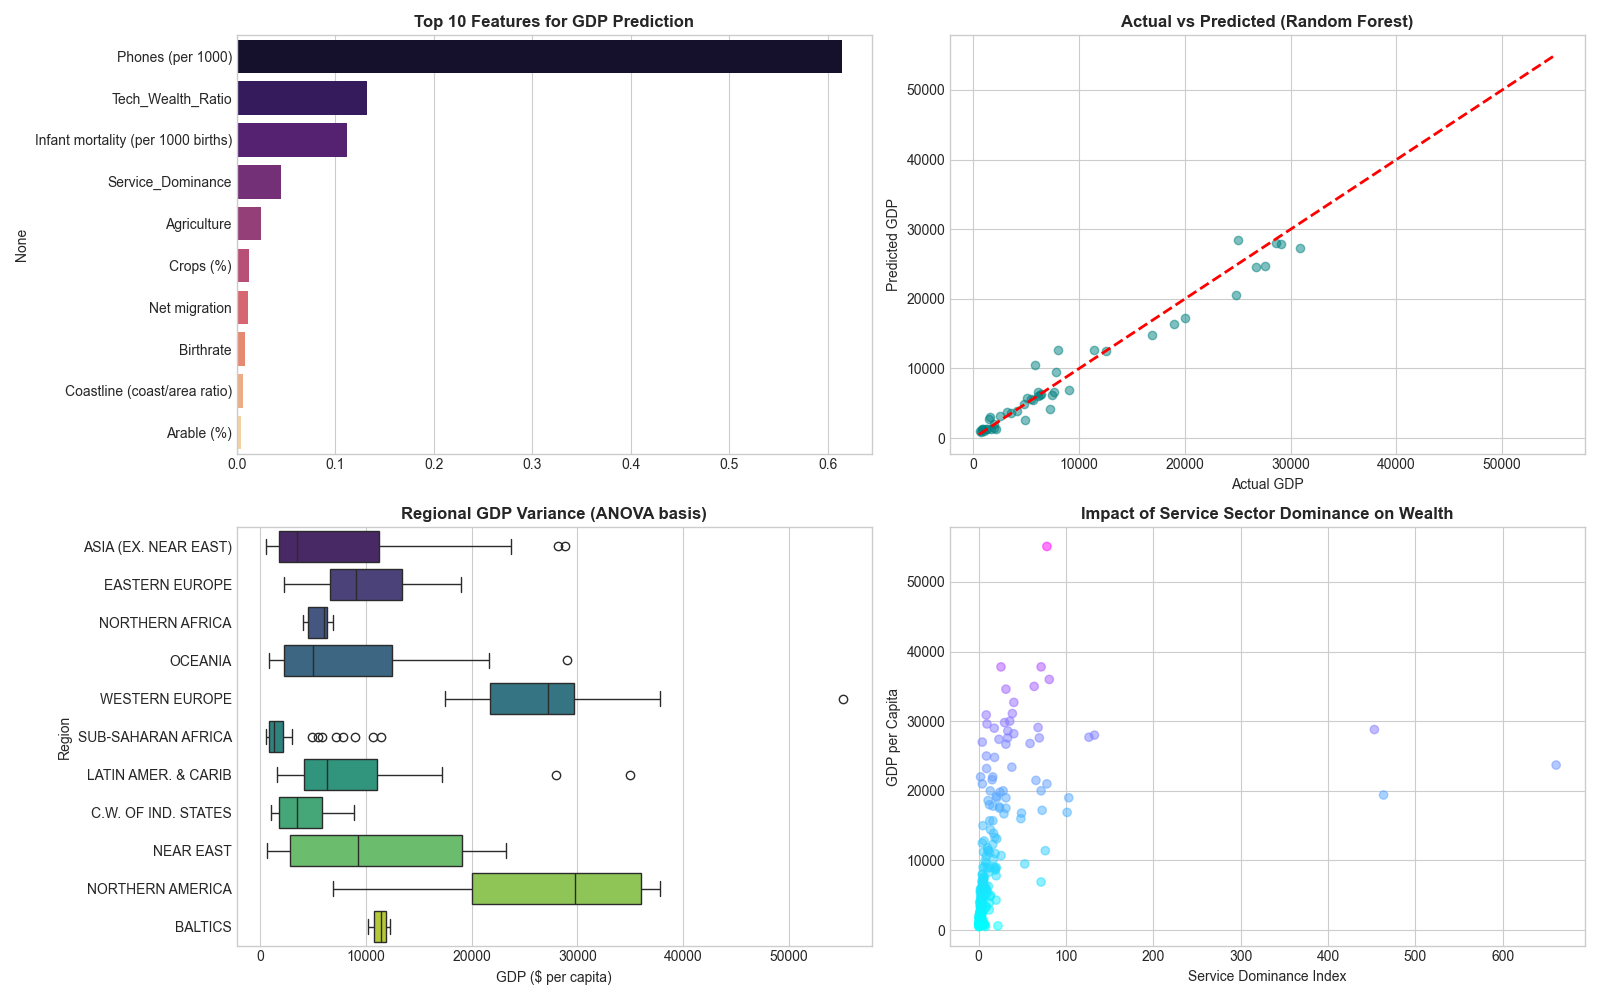

What the dashboard file says about the page in this screenshot:
{"tool":"powerbi","page":{"name":"Page 1","canvas":[1280,720],"ordinal":0},"visuals":[{"type":"pythonVisual","fields":{"Values":["powerbi_data.Country","powerbi_data.Region","powerbi_data.GDP ($ per capita)","Sum(powerbi_data.Birthrate)","Sum(powerbi_data.Crops (%))","Sum(powerbi_data.Net migration)","Sum(powerbi_data.Total_GDP_B)","Sum(powerbi_data.Pop. Density (per sq. mi.))","Sum(powerbi_data.Other (%))","Sum(powerbi_data.Infant mortality (per 1000 births))","Sum(powerbi_data.Deathrate)","Sum(powerbi_data.Climate)"]},"box":[0,0,1280,720],"z":0}]}

Visuals, with their boxes on the page's 1280x720 design canvas (x1, y1, x2, y2). These are canvas units, not pixel positions in the 1600x1000 screenshot, which may show the page scaled, cropped or inside an application window:
pythonVisual - powerbi_data.Country x powerbi_data.Region: [0, 0, 1280, 720]
